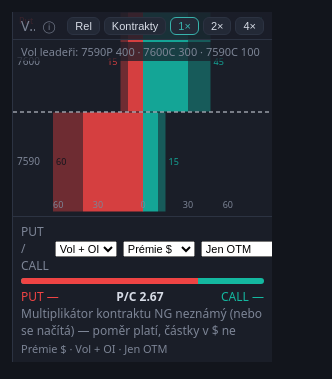
Test case: neznámý multiplikátor: profil v kontraktech se štítkem, P/C bez částek v $ (#1400)
Step 1. Click the button with test id "profile-unit-toggle" → (135, 26), box [104,16,166,34]
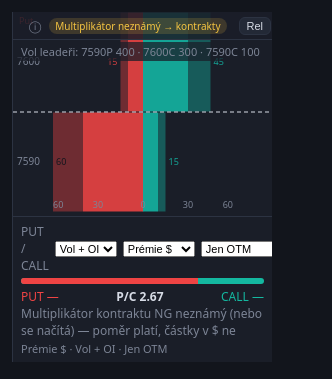
Check: the text with test id "pcr-no-multiplier" shows "NG", box [154,305,172,322]
Check: the text with test id "premium-no-multiplier" shows "Multiplikátor neznámý", box [55,18,221,32]
